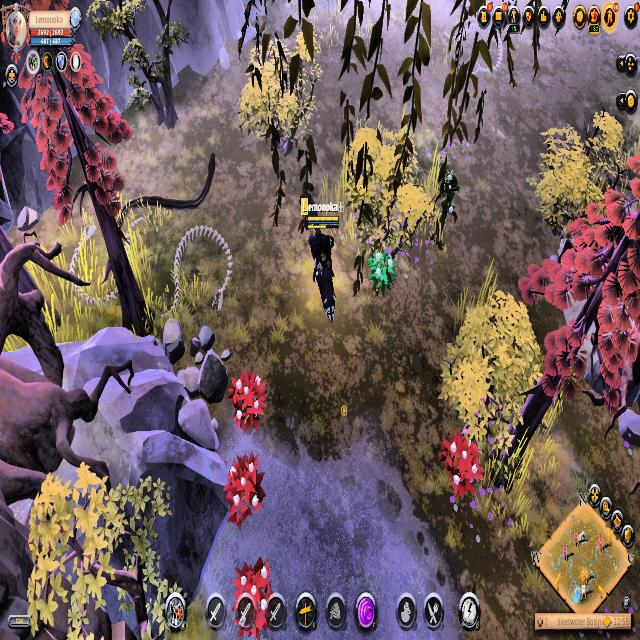fiber tier 3: (370, 249, 396, 296)
fiber tier 5: (222, 453, 267, 535), (439, 430, 484, 502), (230, 370, 268, 432)
